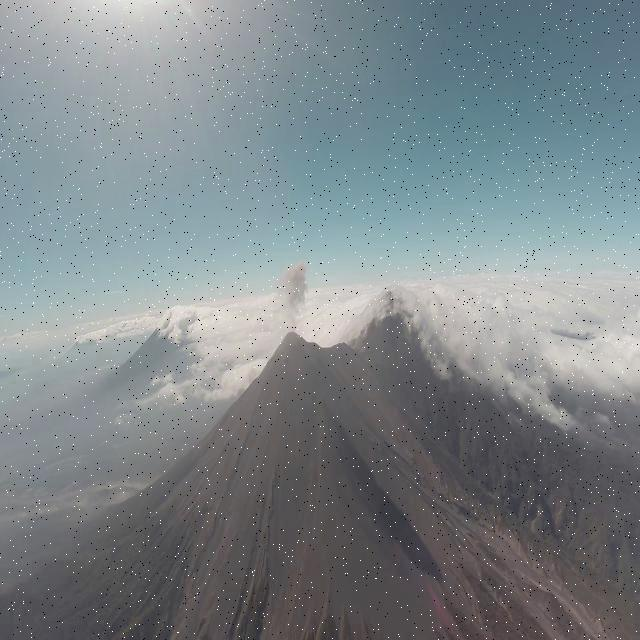Plume: (277, 258, 310, 331)
Summit: (266, 329, 320, 366)
